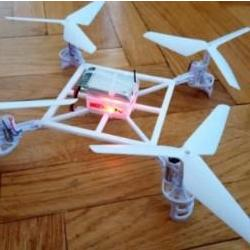drone: (1, 1, 250, 245)
